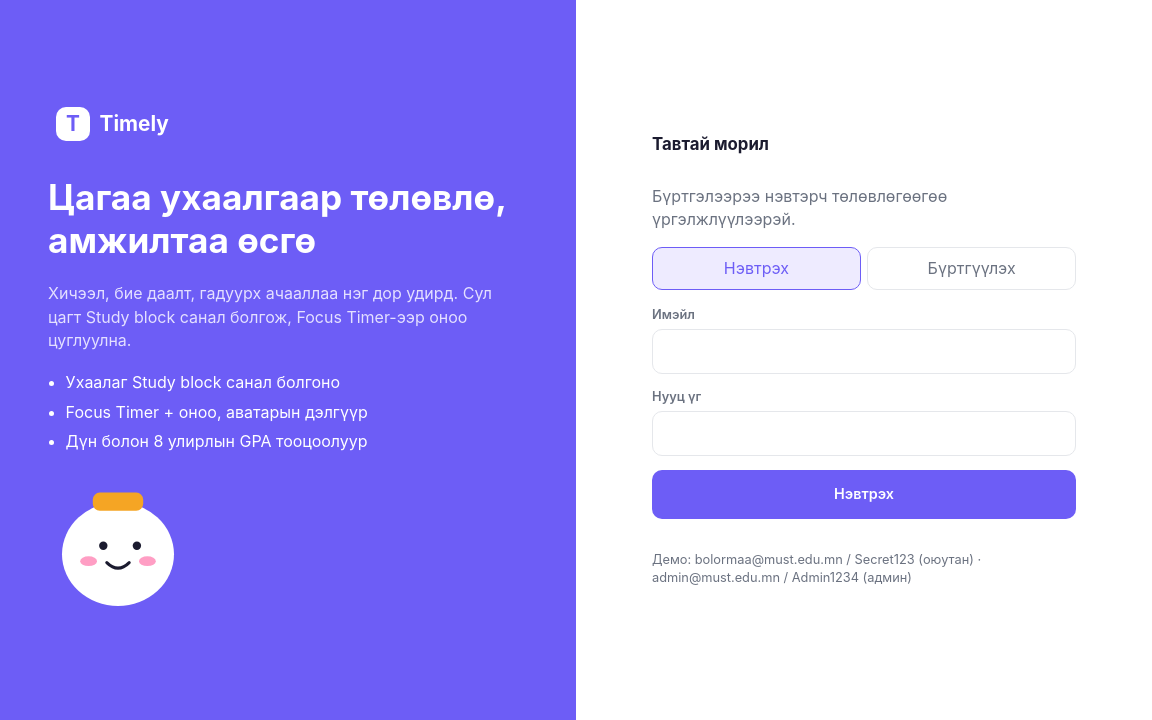
it: authenticate › validation алдаа харуулна
Click the button with test id "submit" at (864, 494), box [652,470,1076,519]
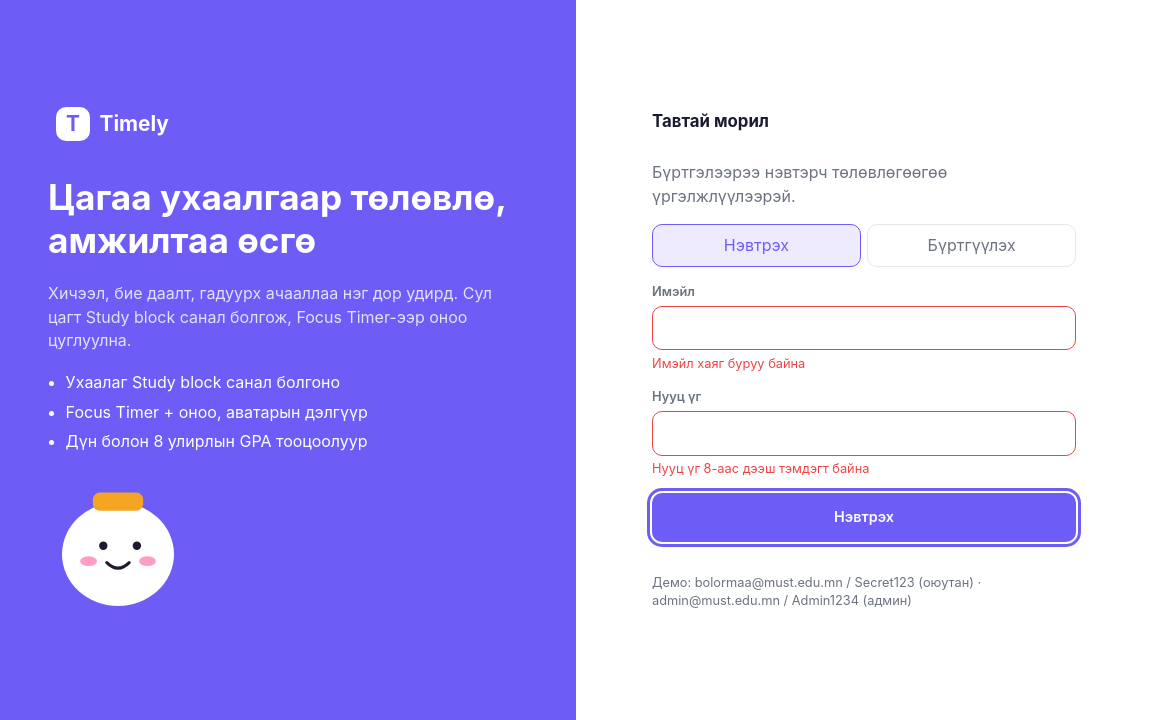
Expected: the message with test id "error-email" reads "Имэйл хаяг буруу байна", [652,356,805,371]
Expected: the message "Нууц үг 8-аас дээш тэмдэгт байна" is shown, [652,462,869,476]
